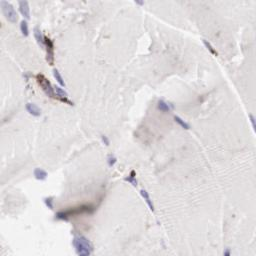nucleus: (73, 235, 93, 255), (1, 1, 17, 21), (175, 115, 189, 130), (19, 1, 30, 20), (26, 102, 41, 115), (53, 68, 64, 85), (34, 167, 47, 181), (249, 111, 256, 132), (20, 20, 29, 36), (34, 27, 42, 45), (44, 196, 54, 210), (43, 83, 53, 94), (108, 154, 116, 166), (57, 87, 67, 95), (145, 199, 153, 209), (101, 135, 109, 145), (159, 101, 167, 110), (140, 188, 148, 197), (223, 249, 231, 256), (203, 40, 210, 48), (58, 212, 65, 218), (134, 1, 143, 5), (47, 49, 52, 56), (157, 221, 161, 225)
positive_cell: (35, 73, 53, 94), (43, 35, 54, 64), (204, 40, 217, 55), (58, 98, 73, 105)
